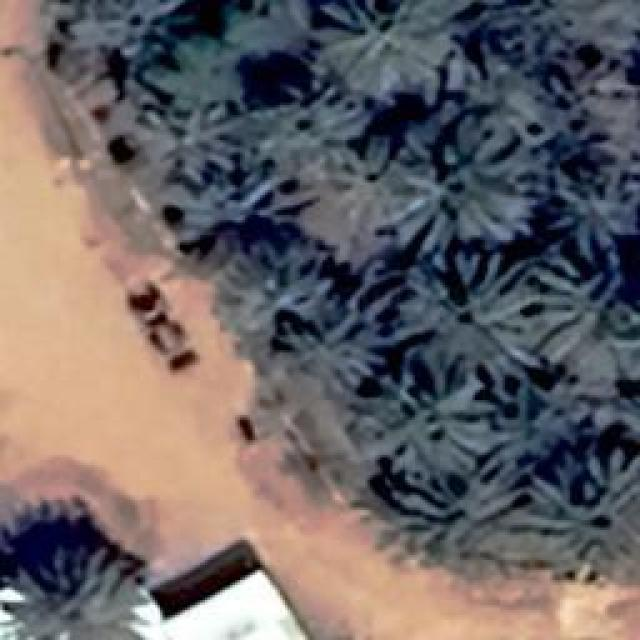PalmTree: (113, 88, 540, 418), (375, 115, 543, 250), (382, 242, 542, 380), (524, 440, 638, 572), (218, 235, 340, 355), (0, 542, 152, 637), (54, 0, 188, 103), (315, 0, 443, 98), (354, 376, 484, 469), (245, 75, 360, 180), (547, 251, 640, 373), (392, 474, 502, 558), (544, 160, 638, 248), (468, 0, 598, 57), (172, 178, 286, 238), (81, 0, 194, 60), (107, 81, 186, 139), (250, 609, 372, 640), (621, 375, 640, 460)
